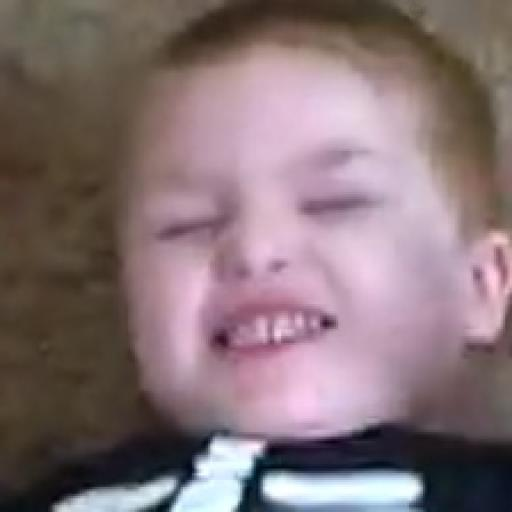Autism: (93, 9, 511, 512)
